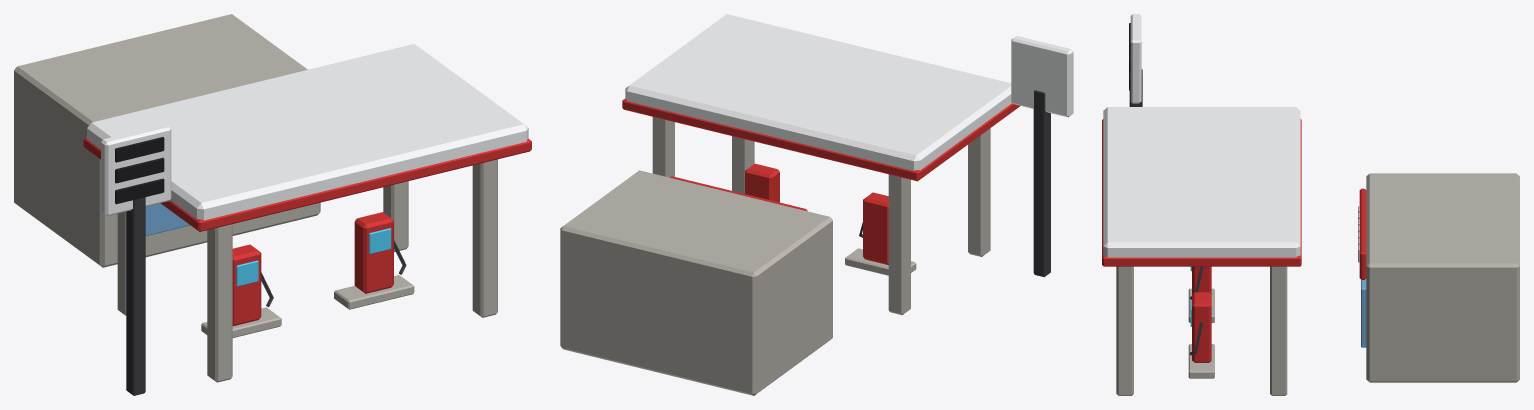
The model's file is GasStation.fbx.
The picture shows the model from 3 angles, left to right: view 1: azimuth 30°, elevation 25°; view 2: azimuth 150°, elevation 25°; view 3: azimuth 270°, elevation 25°; orthographic projection. The views are drawn at different scales.
Parts seen in each view (by area): view 1: GasStation; view 2: GasStation; view 3: GasStation.
Boxes of the visible parts, x1=… form: GasStation: x1=14, y1=14, x2=531, y2=395; GasStation: x1=560, y1=14, x2=1073, y2=395; GasStation: x1=1102, y1=14, x2=1519, y2=395.
Size of the model in its own units: 18.55 by 11.2 by 19.05.
Materials: 1 (1 with a texture image).
